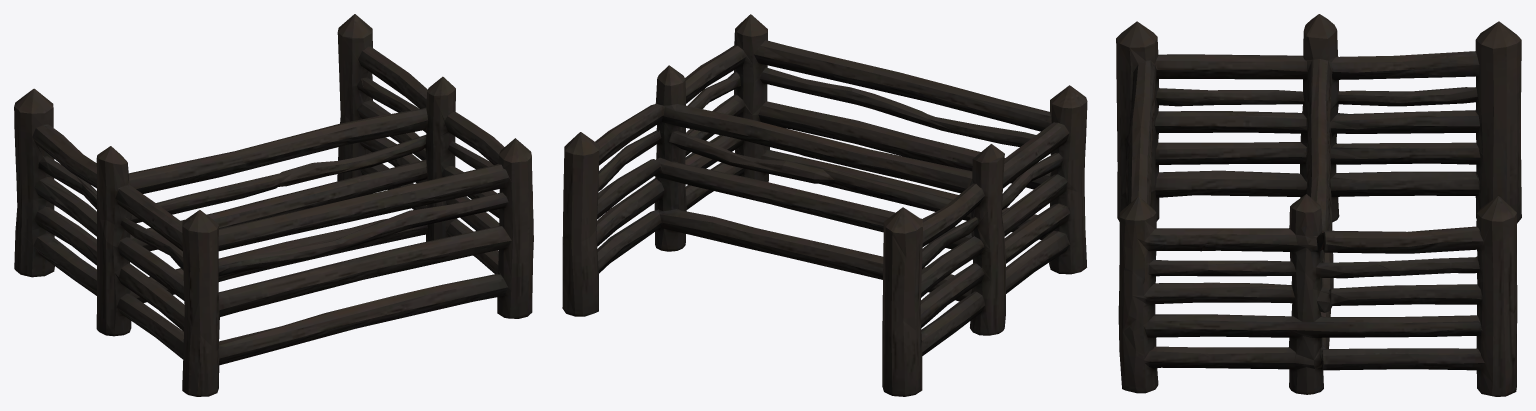
Rendered from war_fence_01.glb.
3 views of the same model, side by side, from view 1: azimuth 30°, elevation 25°; view 2: azimuth 150°, elevation 25°; view 3: azimuth 270°, elevation 25° (orthographic). The views are drawn at different scales.
Parts seen in each view (by area): view 1: geometry_0; view 2: geometry_0; view 3: geometry_0.
Boxes of the visible parts, x1,y1,x2,y2 form: geometry_0: (14, 14, 533, 396); geometry_0: (562, 14, 1087, 396); geometry_0: (1116, 14, 1521, 396).
Size of the model in its own units: 0.9985 by 0.497 by 0.9084.
1 material, 1 textured.
